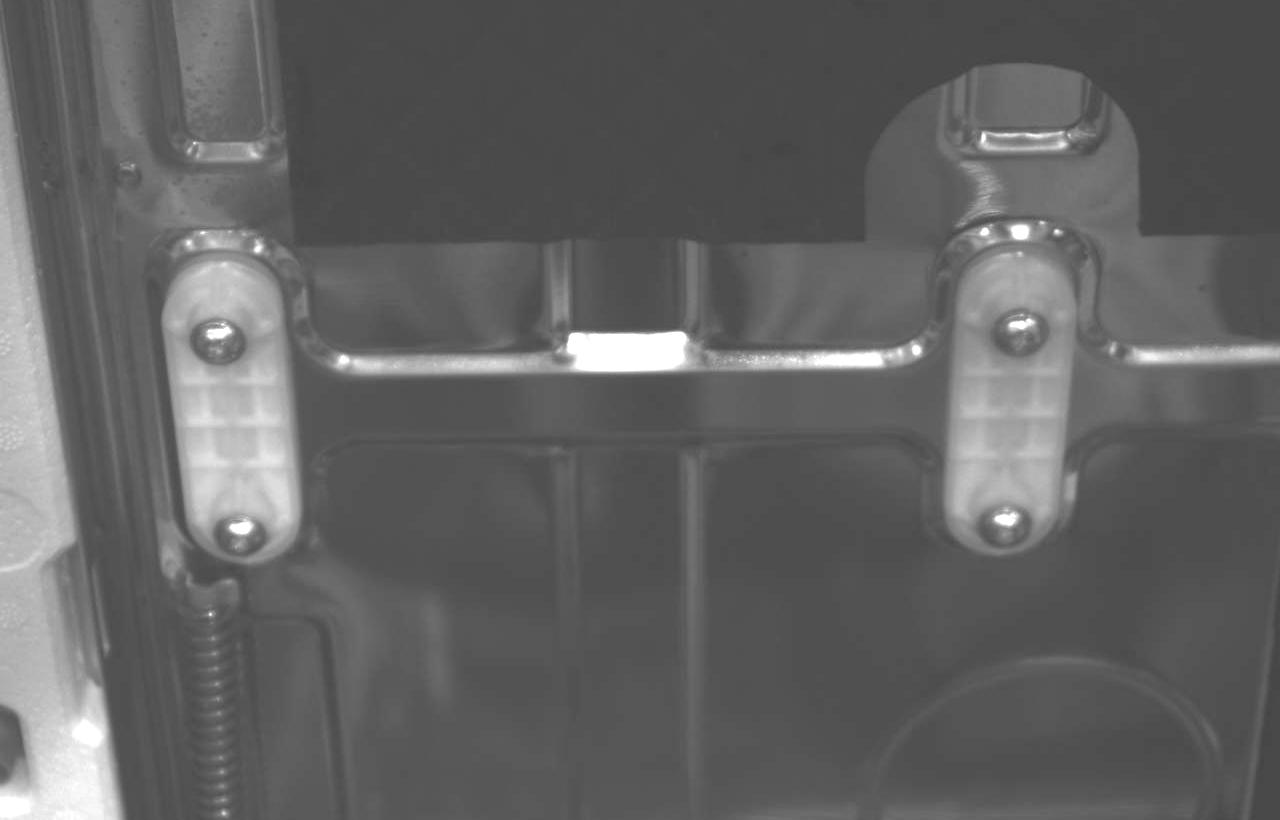vida-ok: (193, 311, 264, 378), (987, 297, 1054, 364), (974, 494, 1040, 562), (209, 507, 274, 565)
